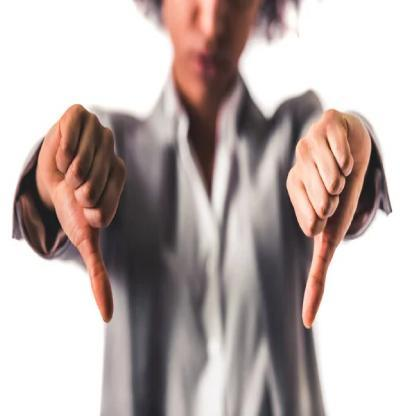thumb_down: (34, 99, 128, 329), (282, 104, 374, 330)
